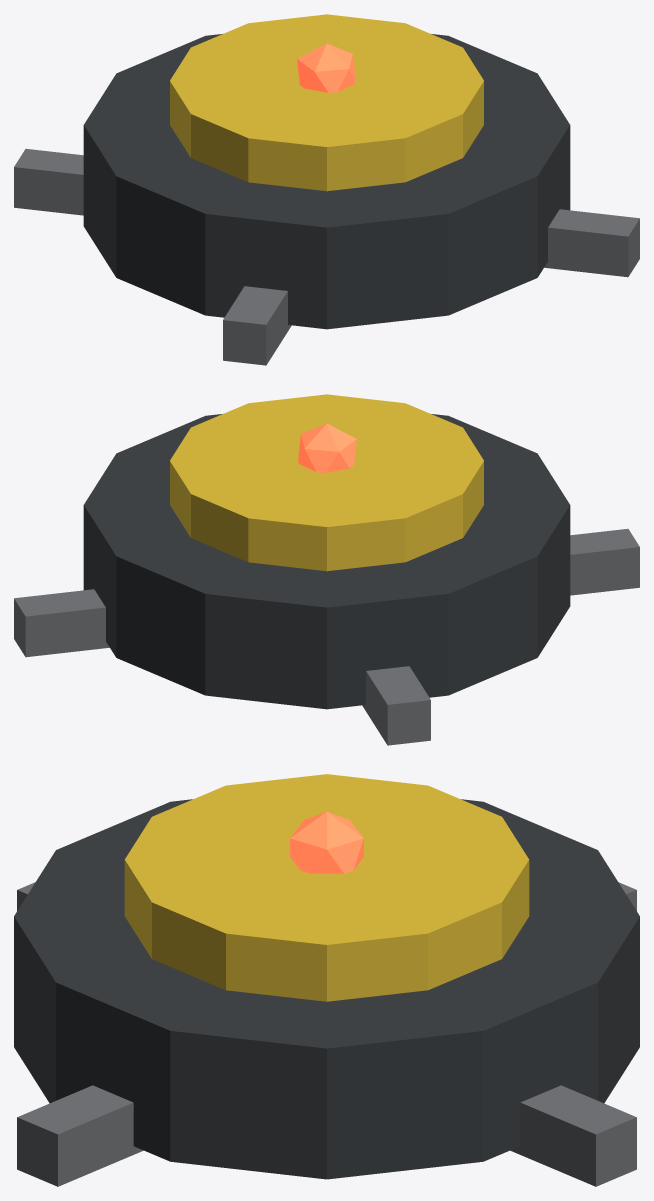
Rendered from mine.glb.
The picture shows the model from 3 angles, top to bottom: view 1: azimuth 30°, elevation 25°; view 2: azimuth 150°, elevation 25°; view 3: azimuth 270°, elevation 25°; orthographic projection. The views are drawn at different scales.
Visible parts, largest first — view 1: Mine_Body, Mine_Cap, Mine_Claw3, Mine_Claw2, Mine_Claw1, Led; view 2: Mine_Body, Mine_Cap, Mine_Claw0, Mine_Claw1, Mine_Claw2, Led; view 3: Mine_Body, Mine_Cap, Mine_Claw0, Mine_Claw3, Led.
Part boxes in pixels (left/top/right/bottom): Mine_Body: left=83, top=34, right=570, bottom=329; Mine_Cap: left=170, top=14, right=483, bottom=191; Mine_Claw3: left=544, top=209, right=639, bottom=277; Mine_Claw2: left=223, top=286, right=291, bottom=365; Mine_Claw1: left=14, top=148, right=83, bottom=215; Led: left=297, top=43, right=355, bottom=92; Mine_Body: left=83, top=414, right=570, bottom=709; Mine_Cap: left=170, top=394, right=483, bottom=571; Mine_Claw0: left=14, top=589, right=109, bottom=657; Mine_Claw1: left=362, top=666, right=430, bottom=745; Mine_Claw2: left=570, top=528, right=639, bottom=595; Led: left=298, top=423, right=356, bottom=472; Mine_Body: left=14, top=799, right=639, bottom=1179; Mine_Cap: left=124, top=774, right=529, bottom=1001; Mine_Claw0: left=510, top=1085, right=636, bottom=1186; Mine_Claw3: left=17, top=1085, right=143, bottom=1186; Led: left=290, top=811, right=363, bottom=873.
Size of the model in its own units: 0.13 by 0.056 by 0.13.
